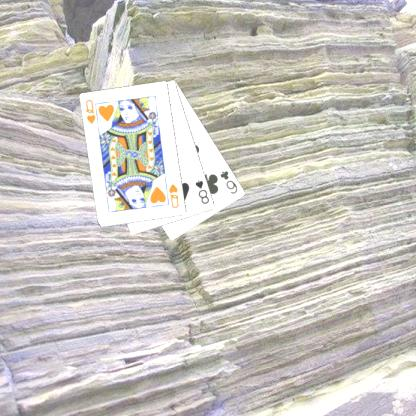6C: (218, 168, 239, 195)
8S: (192, 178, 211, 206)
QH: (83, 97, 100, 128), (166, 181, 180, 210)
